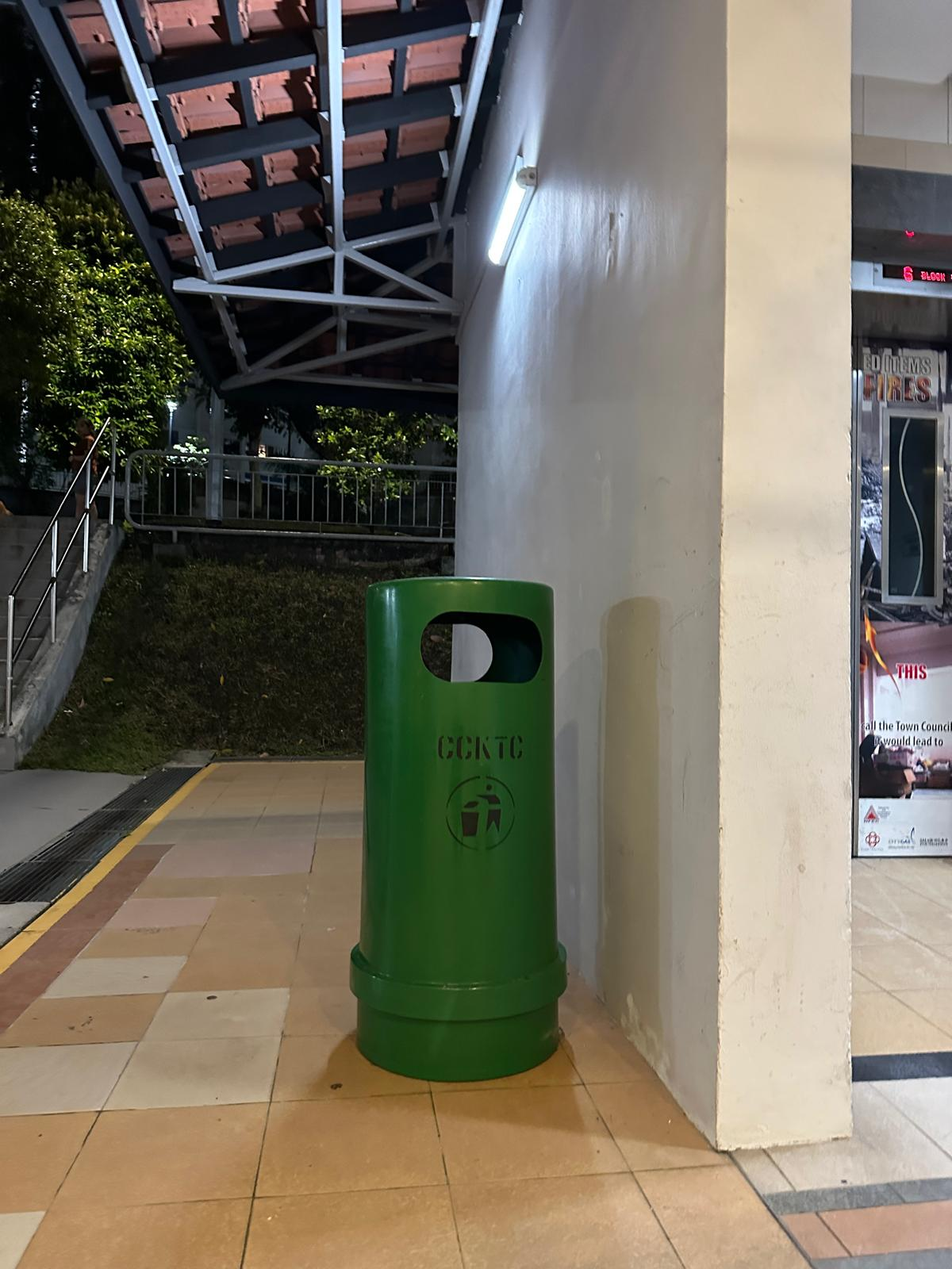bin_empty: (350, 577, 566, 1080)
